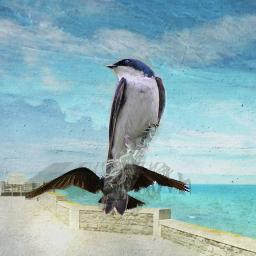Crow: (25, 162, 191, 219)
Swallow: (98, 56, 167, 217)
